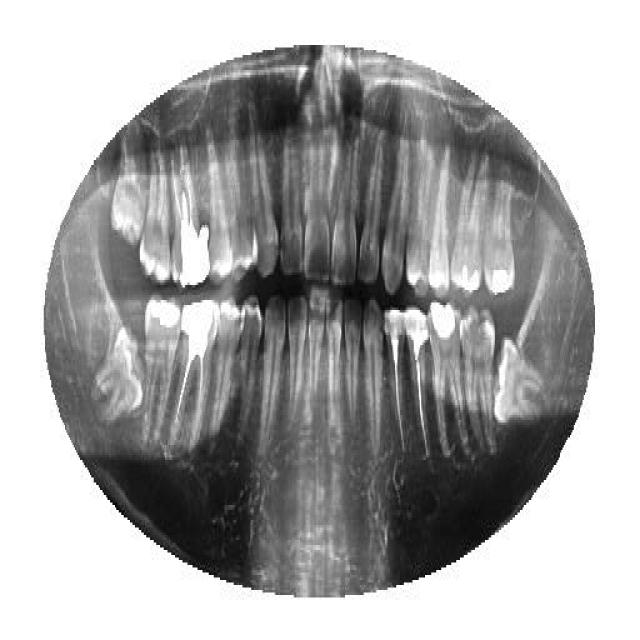Fillings: (428, 302, 470, 462), (169, 135, 210, 290), (142, 298, 180, 442), (449, 152, 486, 298), (485, 162, 516, 298)
Impacted Tooth: (92, 320, 146, 428), (493, 335, 545, 433)
Implant: (168, 295, 220, 455), (405, 298, 429, 468), (385, 307, 409, 455)
